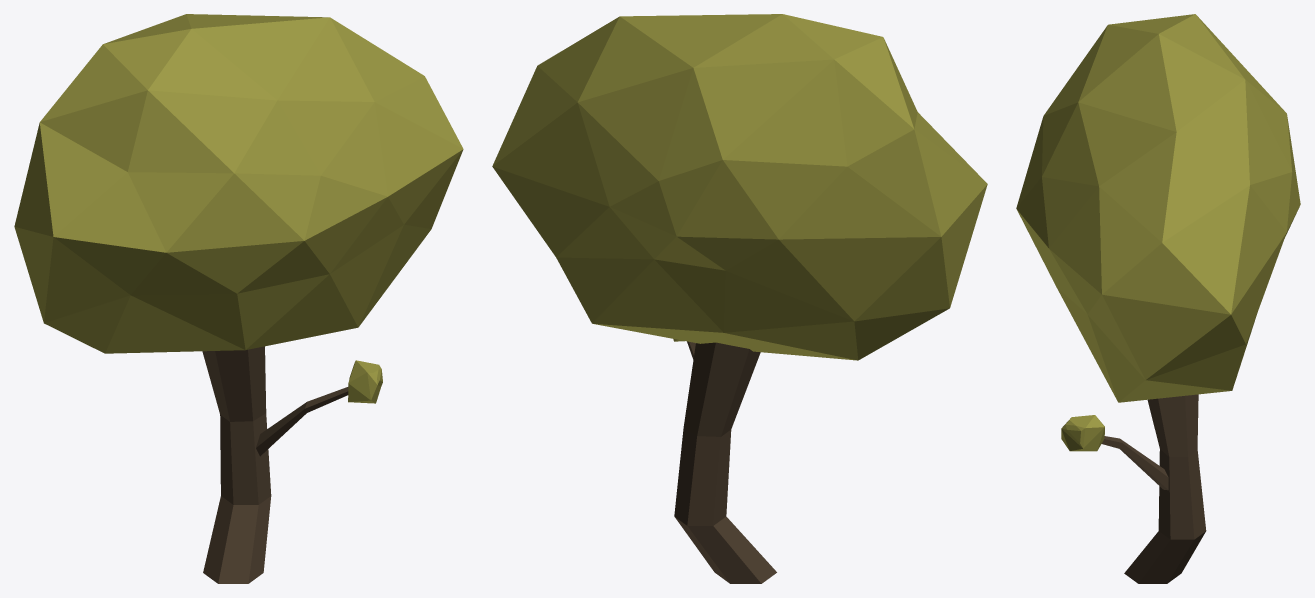
The model's file is Tree_5_Yellow.fbx.
3 renders of one model, left to right at view 1: azimuth 30°, elevation 25°; view 2: azimuth 150°, elevation 25°; view 3: azimuth 270°, elevation 25°, orthographic. The views are drawn at different scales.
Visible parts, largest first — view 1: Tree_5_Yellow_Part_2, Tree_5_Yellow_Part_1, Tree_5_Yellow_Part_3; view 2: Tree_5_Yellow_Part_2, Tree_5_Yellow_Part_1; view 3: Tree_5_Yellow_Part_2, Tree_5_Yellow_Part_1, Tree_5_Yellow_Part_3.
Boxes of the visible parts, bbox=[...] form: Tree_5_Yellow_Part_2: bbox=[14, 14, 463, 353]; Tree_5_Yellow_Part_1: bbox=[202, 346, 348, 583]; Tree_5_Yellow_Part_3: bbox=[348, 360, 382, 403]; Tree_5_Yellow_Part_2: bbox=[492, 14, 987, 360]; Tree_5_Yellow_Part_1: bbox=[674, 341, 776, 583]; Tree_5_Yellow_Part_2: bbox=[1016, 14, 1300, 402]; Tree_5_Yellow_Part_1: bbox=[1101, 394, 1206, 583]; Tree_5_Yellow_Part_3: bbox=[1061, 415, 1104, 451].
Bounding box in the file's own units: 546 × 701 × 346.
